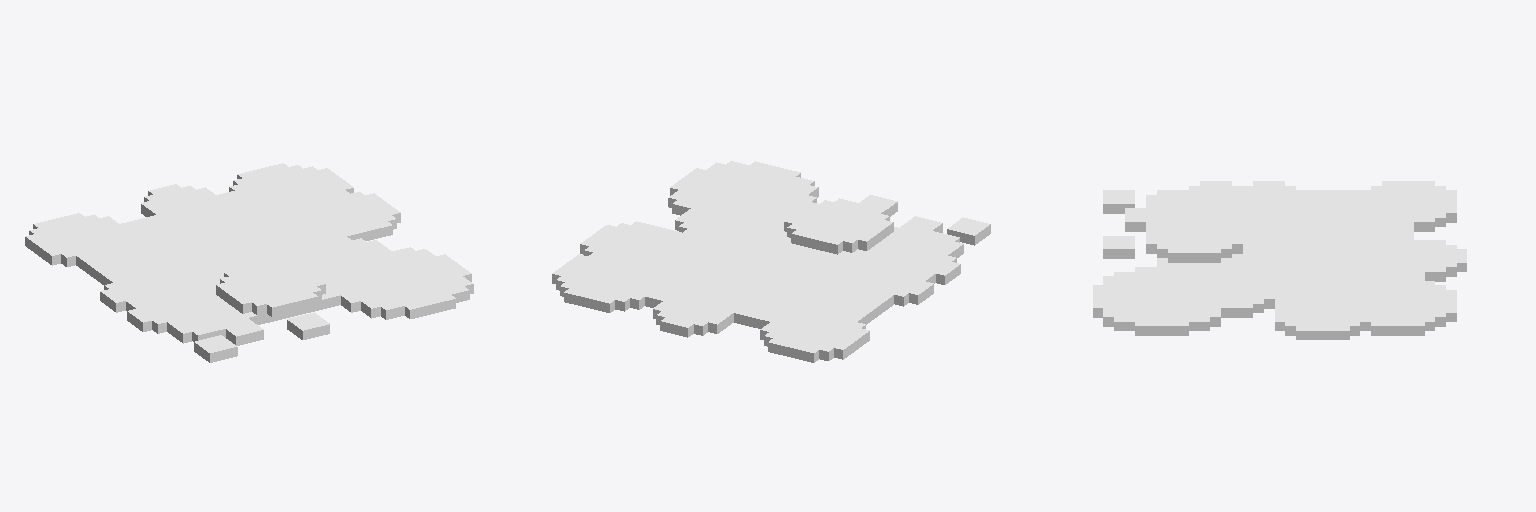
The model's file is oil.obj.
The picture shows the model from 3 angles: view 1: azimuth 30°, elevation 25°; view 2: azimuth 150°, elevation 25°; view 3: azimuth 270°, elevation 25°; orthographic projection.
Parts seen in each view (by area): view 1: object 1; view 2: object 1; view 3: object 1.
Part boxes in pixels (bbox=[...]): object 1: bbox=[25, 163, 473, 362]; object 1: bbox=[552, 161, 990, 362]; object 1: bbox=[1093, 181, 1466, 339].
Bounding box in the file's own units: 3.3 × 0.2 × 3.5.